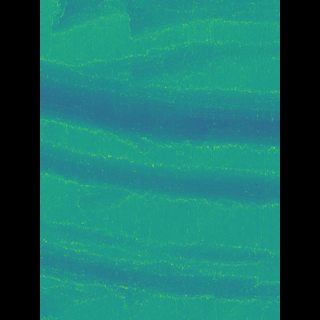Loch: (68, 50, 251, 156), (70, 221, 250, 319), (69, 133, 250, 211), (77, 0, 250, 47)
